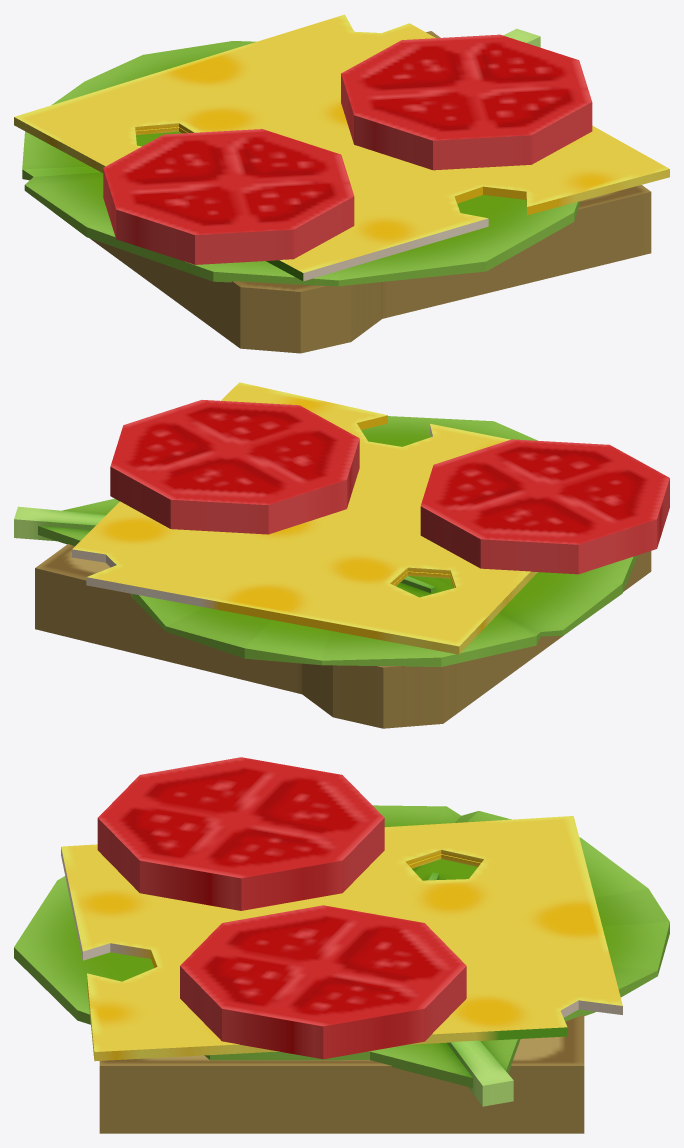
File: Sandwich4.fbx
3 views of the same model, one above another, from view 1: azimuth 30°, elevation 25°; view 2: azimuth 150°, elevation 25°; view 3: azimuth 270°, elevation 25° (orthographic). The views are drawn at different scales.
Parts seen in each view (by area): view 1: polySurface24; view 2: polySurface24; view 3: polySurface24.
Part boxes in pixels (x1=…): polySurface24: x1=14, y1=14, x2=669, y2=353; polySurface24: x1=14, y1=382, x2=669, y2=728; polySurface24: x1=14, y1=757, x2=669, y2=1133.
Size of the model in its own units: 1.32 by 0.2628 by 1.27.
